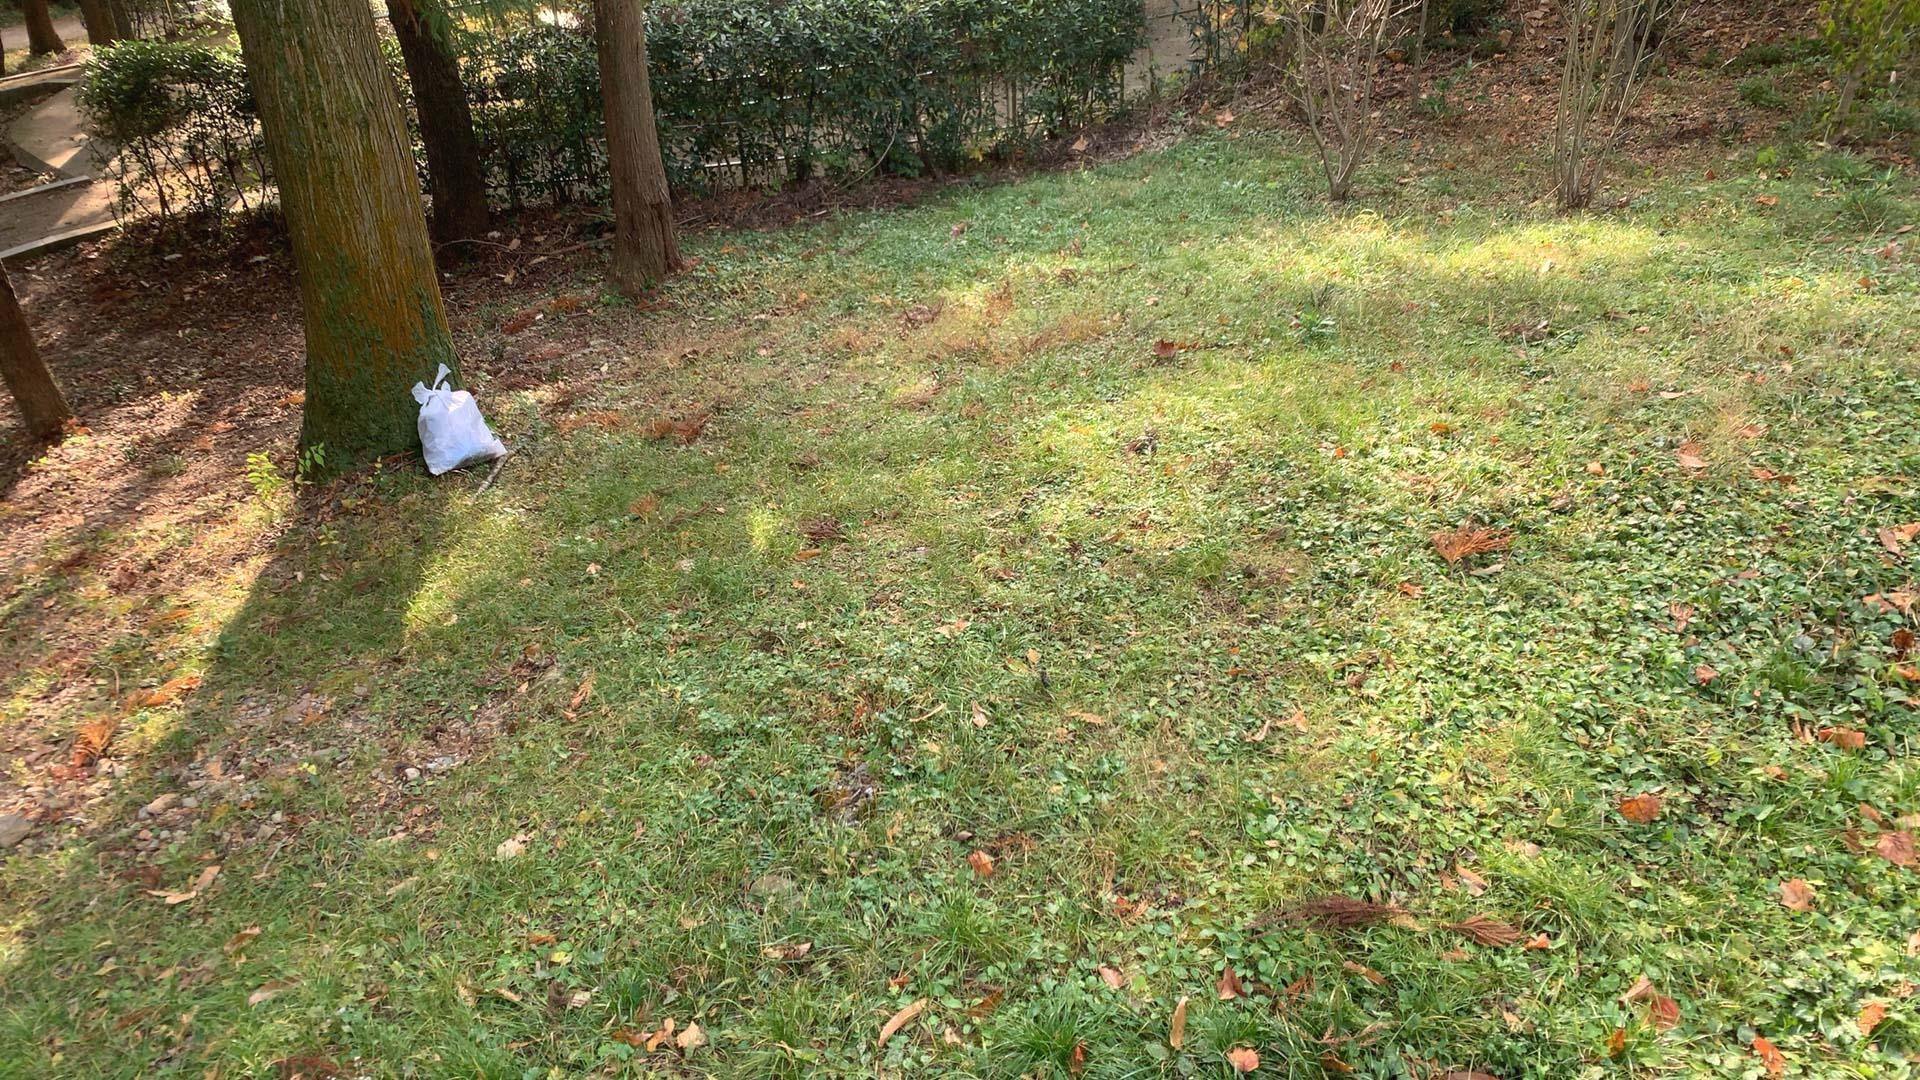white_bag: (404, 363, 514, 483)
